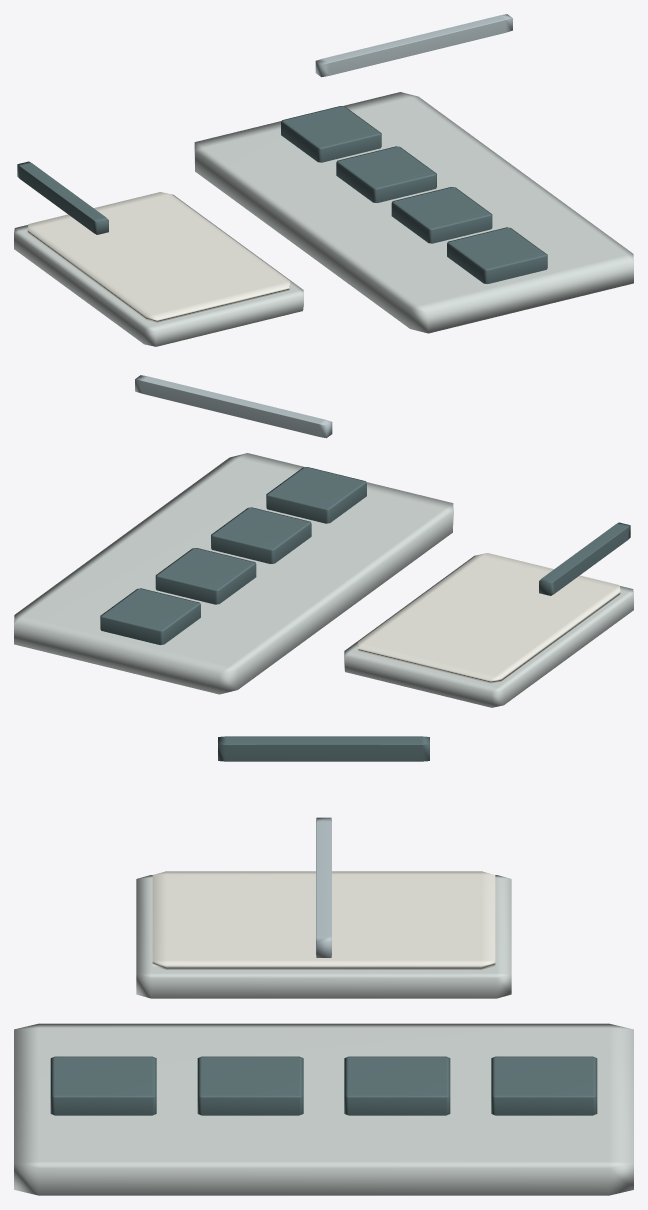
File: selector.glb
3 views of the same model, one above another, from view 1: azimuth 30°, elevation 25°; view 2: azimuth 150°, elevation 25°; view 3: azimuth 270°, elevation 25° (orthographic). The views are drawn at different scales.
Visible parts, largest first — view 1: selector_bed, answer_paper, printer_tray, score_socket_1, score_socket_2, score_socket_0, score_socket_3, selector_pointer, stop_bar; view 2: selector_bed, answer_paper, printer_tray, score_socket_2, score_socket_1, score_socket_0, score_socket_3, selector_pointer, stop_bar; view 3: selector_bed, answer_paper, printer_tray, score_socket_0, score_socket_3, score_socket_1, score_socket_2, stop_bar, selector_pointer.
Boxes of the visible parts, x1,y1,x2,y2 form: selector_bed: [194, 92, 633, 333]; answer_paper: [27, 192, 289, 322]; printer_tray: [14, 194, 303, 346]; score_socket_1: [391, 187, 492, 243]; score_socket_2: [336, 146, 436, 202]; score_socket_0: [447, 227, 547, 283]; score_socket_3: [281, 106, 381, 162]; selector_pointer: [315, 14, 512, 77]; stop_bar: [17, 161, 108, 234]; selector_bed: [14, 453, 453, 694]; answer_paper: [358, 553, 620, 683]; printer_tray: [344, 555, 633, 707]; score_socket_2: [155, 548, 256, 604]; score_socket_1: [211, 507, 311, 563]; score_socket_0: [266, 467, 366, 523]; score_socket_3: [100, 588, 200, 644]; selector_pointer: [135, 375, 332, 438]; stop_bar: [539, 522, 630, 595]; selector_bed: [14, 1023, 633, 1195]; answer_paper: [152, 871, 495, 969]; printer_tray: [136, 875, 511, 998]; score_socket_0: [50, 1056, 156, 1115]; score_socket_3: [491, 1056, 597, 1115]; score_socket_1: [197, 1056, 303, 1115]; score_socket_2: [344, 1056, 450, 1115]; stop_bar: [218, 736, 429, 761]; selector_pointer: [316, 817, 331, 957].
Size of the model in its own units: 4.41 by 1.66 by 3.8.
